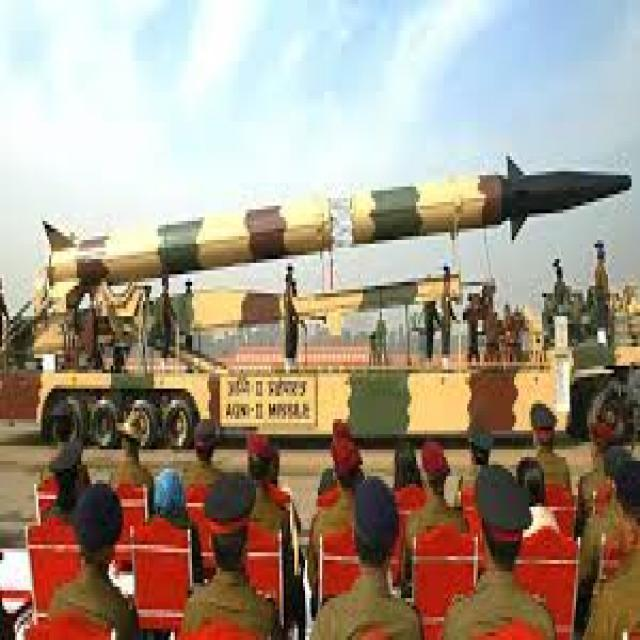Missile: (39, 158, 640, 290)
